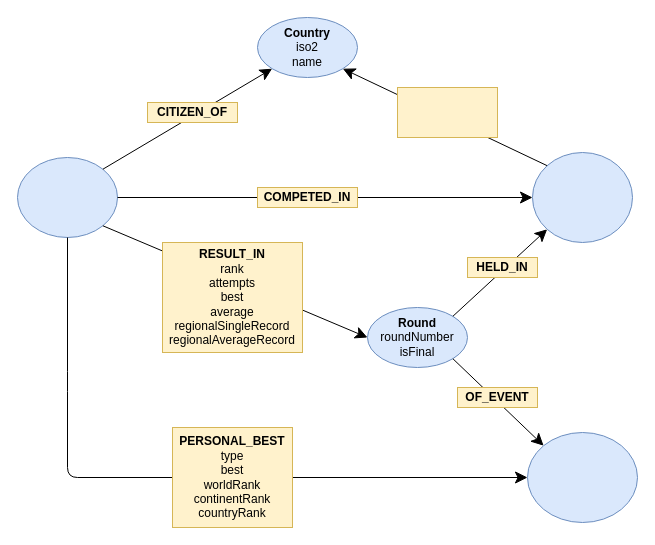
Image size: 655x545. Some labels were removed from this diagram. Here are the shapes that lost their labels. From the top down, the centre of each, then its label:
At point 447,112: "ORGANIZED_IN city location".
At point 67,197: "Person wcaId name gender".
At point 582,197: "Competition name startDate endDate".
At point 582,477: "Event wcaId name attemptFormat".
